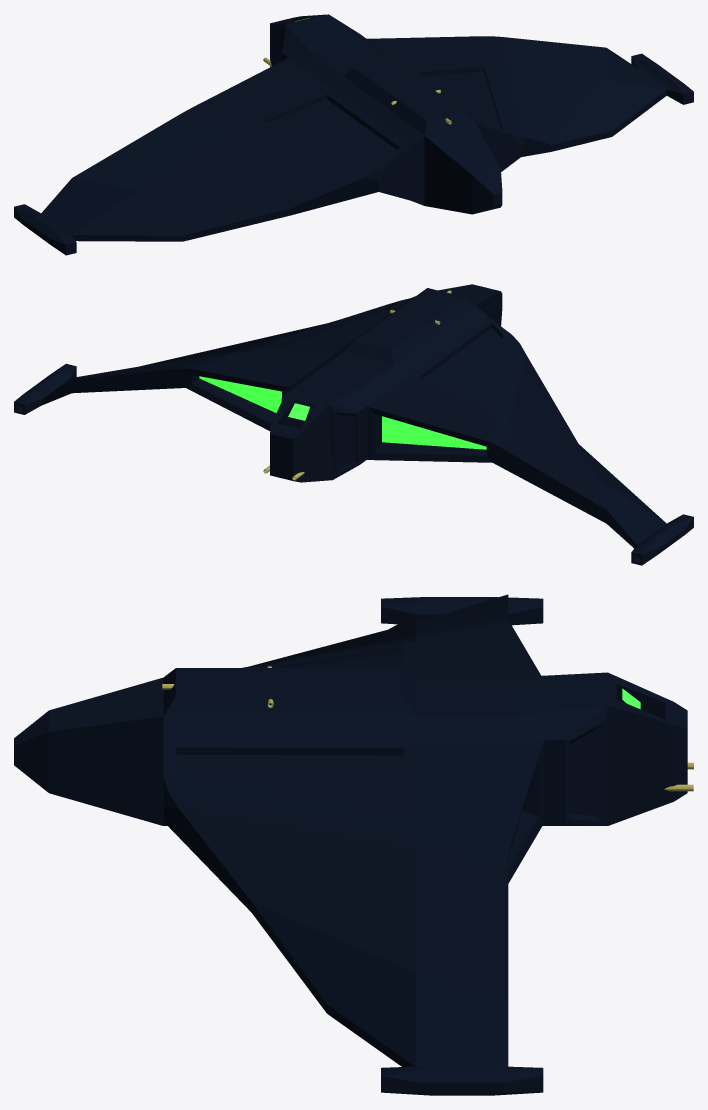
The model's file is manta-nera.glb.
3 views of the same model, one above another, from view 1: azimuth 30°, elevation 25°; view 2: azimuth 150°, elevation 25°; view 3: azimuth 270°, elevation 25° (orthographic). The views are drawn at different scales.
Visible parts, largest first — view 1: ala; view 2: ala, ala.001; view 3: ala.
Boxes of the visible parts, x1,y1,x2,y2 form: ala: [14, 14, 693, 255]; ala: [14, 284, 693, 565]; ala.001: [199, 376, 486, 449]; ala: [14, 594, 687, 1095].
Bounding box in the file's own units: 24.86 × 4.26 × 14.8.
